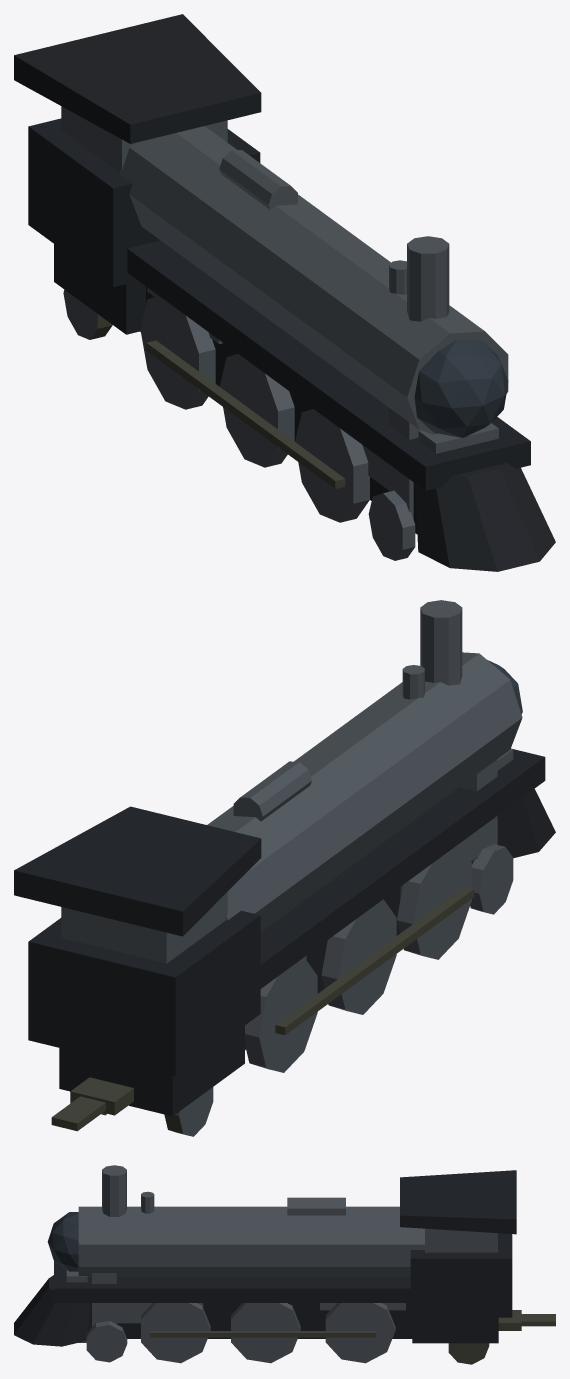
Rendered from Locomotive.fbx.
The picture shows the model from 3 angles, top to bottom: view 1: azimuth 30°, elevation 25°; view 2: azimuth 150°, elevation 25°; view 3: azimuth 270°, elevation 25°; orthographic projection. The views are drawn at different scales.
Parts seen in each view (by area): view 1: Cylinder.004; view 2: Cylinder.004; view 3: Cylinder.004.
Part boxes in pixels (x1=…): Cylinder.004: x1=14, y1=14, x2=555, y2=571; Cylinder.004: x1=14, y1=600, x2=555, y2=1136; Cylinder.004: x1=14, y1=1165, x2=555, y2=1364.
Size of the model in its own units: 1141 by 412 by 245.
